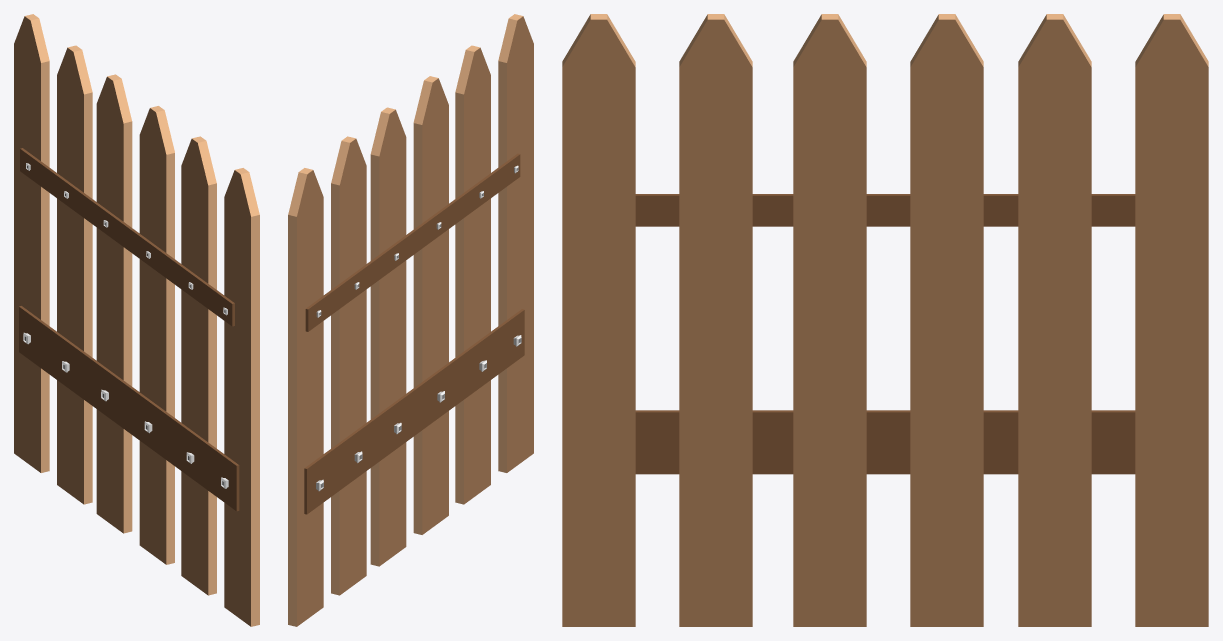
The model's file is fence.glb.
3 renders of one model, left to right at view 1: azimuth 30°, elevation 25°; view 2: azimuth 150°, elevation 25°; view 3: azimuth 270°, elevation 25°, orthographic. The views are drawn at different scales.
Visible parts, largest first — view 1: Cube; view 2: Cube; view 3: Cube.
Part boxes in pixels (x1,y1,x2,y2): Cube: (14,14,259,626); Cube: (288,14,533,626); Cube: (562,14,1208,626).
Size of the model in its own units: 0.0439 by 1.15 by 1.11.
Materials: 1 (1 with a texture image).
